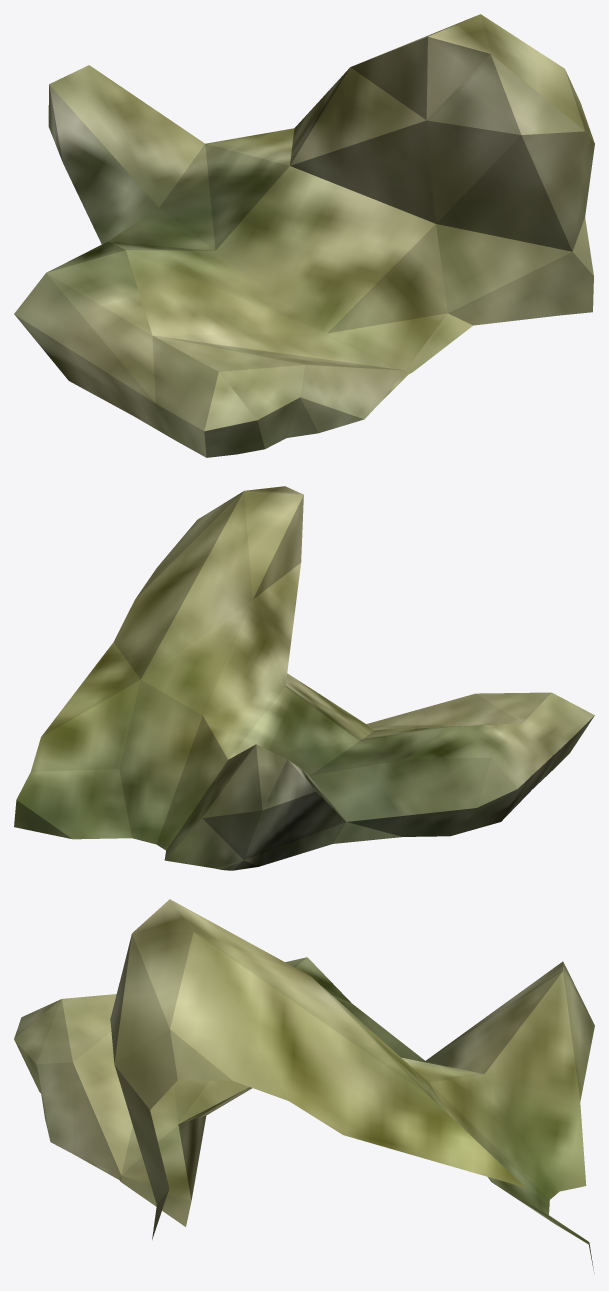
3 renders of one model, top to bottom at view 1: azimuth 30°, elevation 25°; view 2: azimuth 150°, elevation 25°; view 3: azimuth 270°, elevation 25°, orthographic. The views are drawn at different scales.
Bounding box in the file's own units: 1.1 × 0.6442 × 1.12.
1 material, 1 textured.
